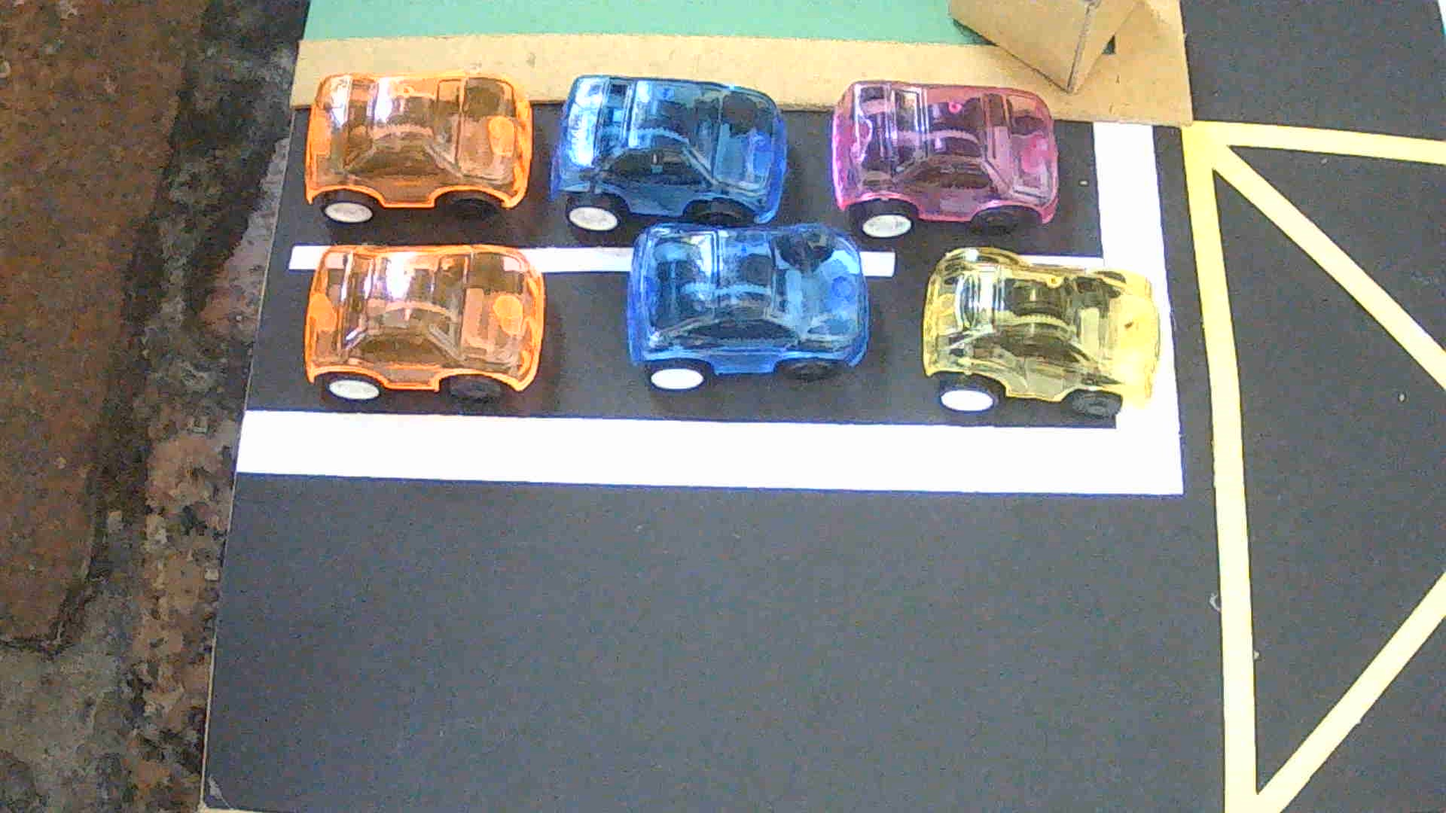Mobil biru: (626, 224, 869, 390), (551, 75, 788, 233)
Mobil kuning: (922, 248, 1159, 418)
Mobil orange: (304, 244, 545, 400), (305, 71, 532, 223)
Mobil ungu: (831, 81, 1058, 236)
